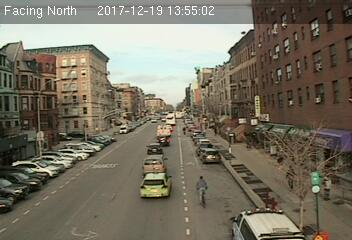bicycle: (194, 175, 210, 211)
car: (140, 172, 171, 197), (140, 154, 168, 173), (199, 148, 221, 164), (144, 143, 163, 154), (155, 136, 172, 146)
police: (229, 206, 311, 240)
truck: (156, 124, 172, 137)
